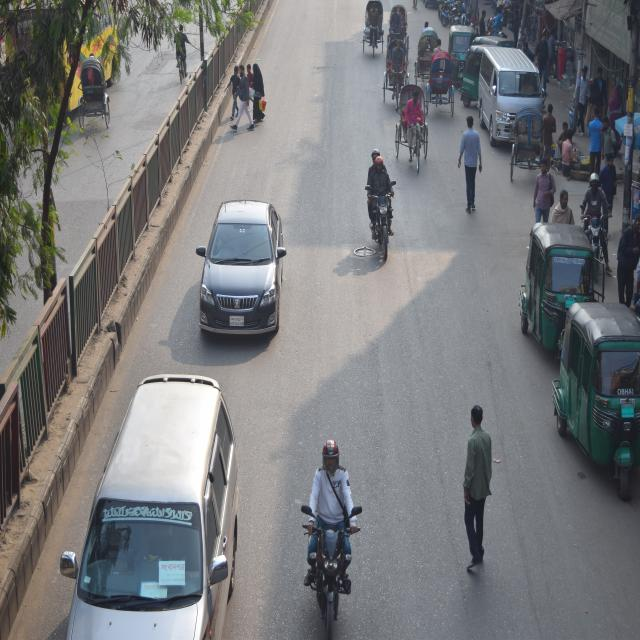microbus: (67, 370, 233, 640), (198, 177, 288, 335), (478, 45, 541, 148)
motorbike: (291, 516, 362, 640), (349, 186, 398, 276), (586, 208, 610, 274)
